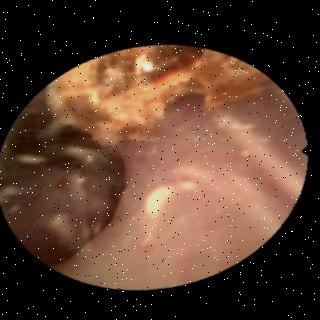stone: (49, 47, 267, 143), (148, 186, 177, 220)
